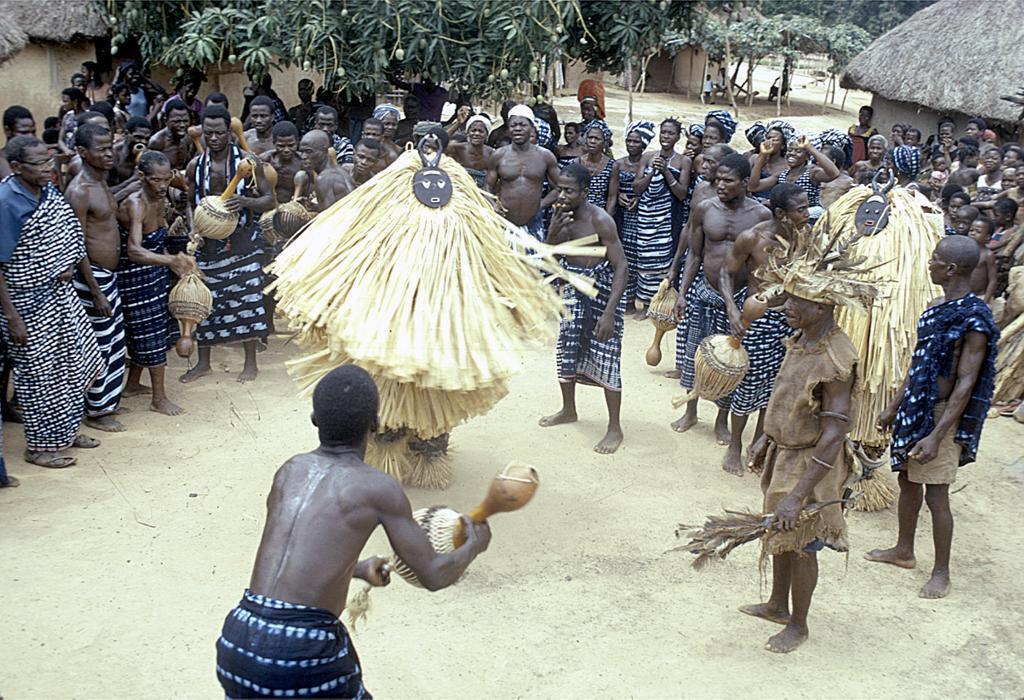face: (22, 145, 52, 187), (786, 290, 814, 329), (557, 175, 584, 214), (88, 134, 115, 170), (146, 164, 173, 200), (785, 193, 810, 231), (203, 117, 228, 153), (715, 168, 740, 203), (354, 143, 380, 176), (928, 247, 950, 285), (702, 151, 727, 183), (12, 117, 36, 149), (87, 119, 112, 146), (509, 116, 532, 145), (170, 109, 191, 140), (251, 104, 272, 133), (275, 135, 298, 161), (131, 126, 151, 154), (702, 126, 721, 154), (786, 143, 806, 168), (954, 211, 974, 236), (300, 144, 319, 170), (317, 113, 336, 139), (660, 124, 679, 150), (766, 130, 784, 156), (968, 222, 988, 245), (469, 122, 487, 147), (364, 125, 382, 148), (948, 197, 966, 220), (380, 115, 397, 139), (627, 132, 644, 156), (522, 124, 538, 149), (587, 129, 603, 154), (868, 140, 885, 163), (985, 149, 1002, 172), (686, 136, 703, 158), (1001, 171, 1017, 193), (125, 67, 141, 87), (62, 94, 76, 116), (992, 207, 1007, 227), (184, 81, 199, 100), (502, 106, 517, 125), (1004, 149, 1019, 168), (405, 100, 419, 120), (966, 123, 979, 143), (564, 125, 577, 144), (73, 77, 87, 94), (299, 82, 312, 100), (892, 126, 905, 144), (155, 94, 169, 110), (118, 88, 131, 105), (534, 82, 546, 100), (934, 156, 947, 172), (859, 108, 871, 125), (905, 131, 919, 145), (582, 104, 595, 119), (82, 65, 92, 83), (940, 128, 952, 143), (1016, 166, 1024, 188), (970, 152, 980, 168), (54, 119, 63, 134)
